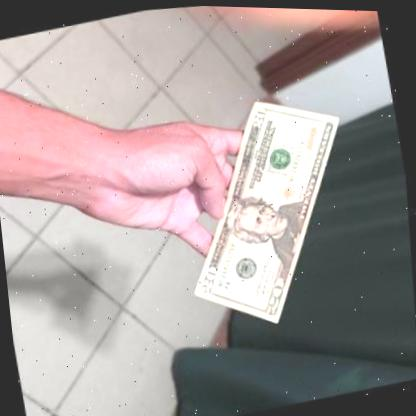twenty-front: (151, 77, 384, 346)
